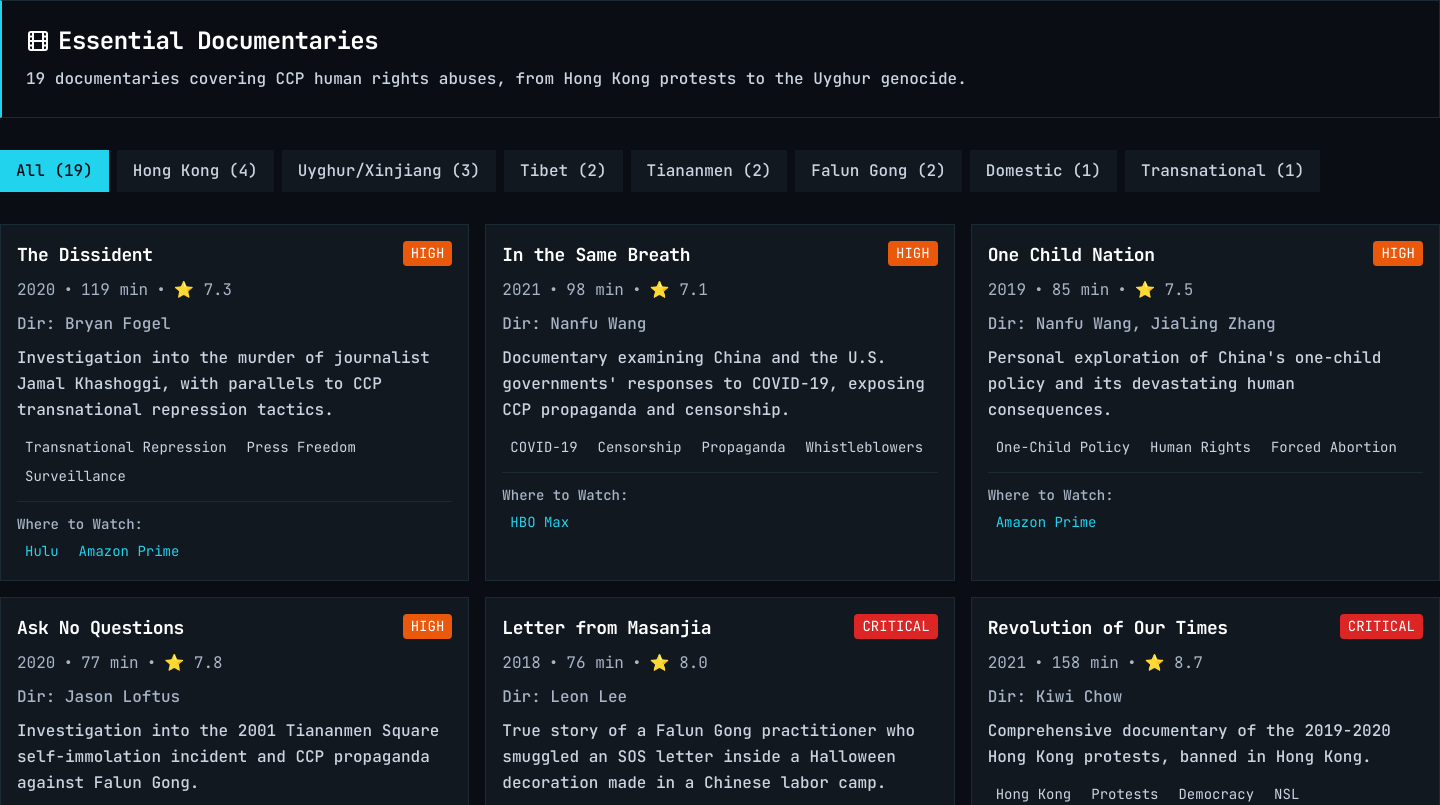
DocumentaryList › filters documentaries by category when a filter button is clicked
Note: Click the Hong Kong filter button (contains count in parens)
Click the tab "Hong Kong (4)" at (195, 171), box [117,150,274,192]
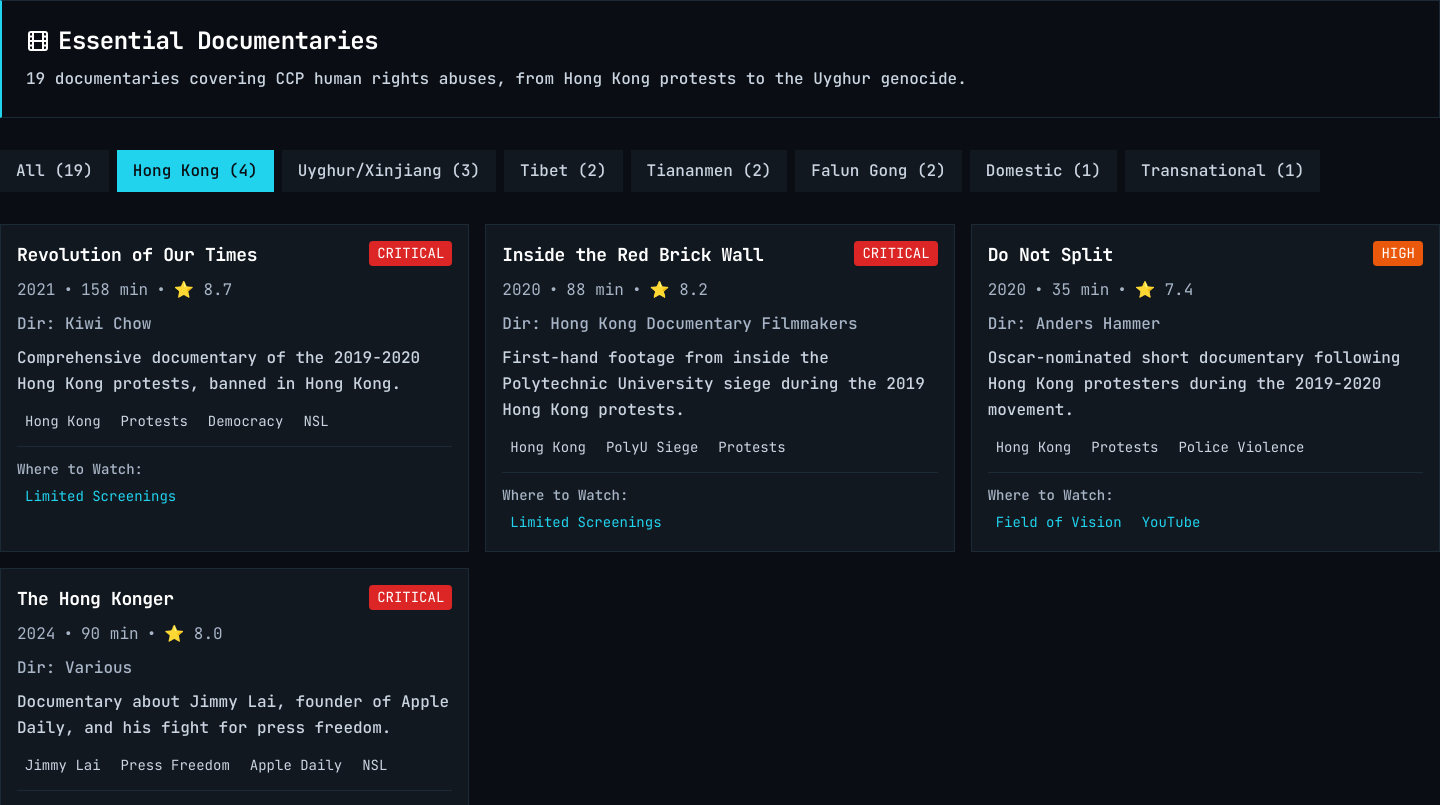
expect the heading "Revolution of Our Times" is shown: met, box [17,241,257,269]
expect the heading "Do Not Split" is shown: met, box [988,241,1113,269]
expect the heading "The Dissident" is gone: met
